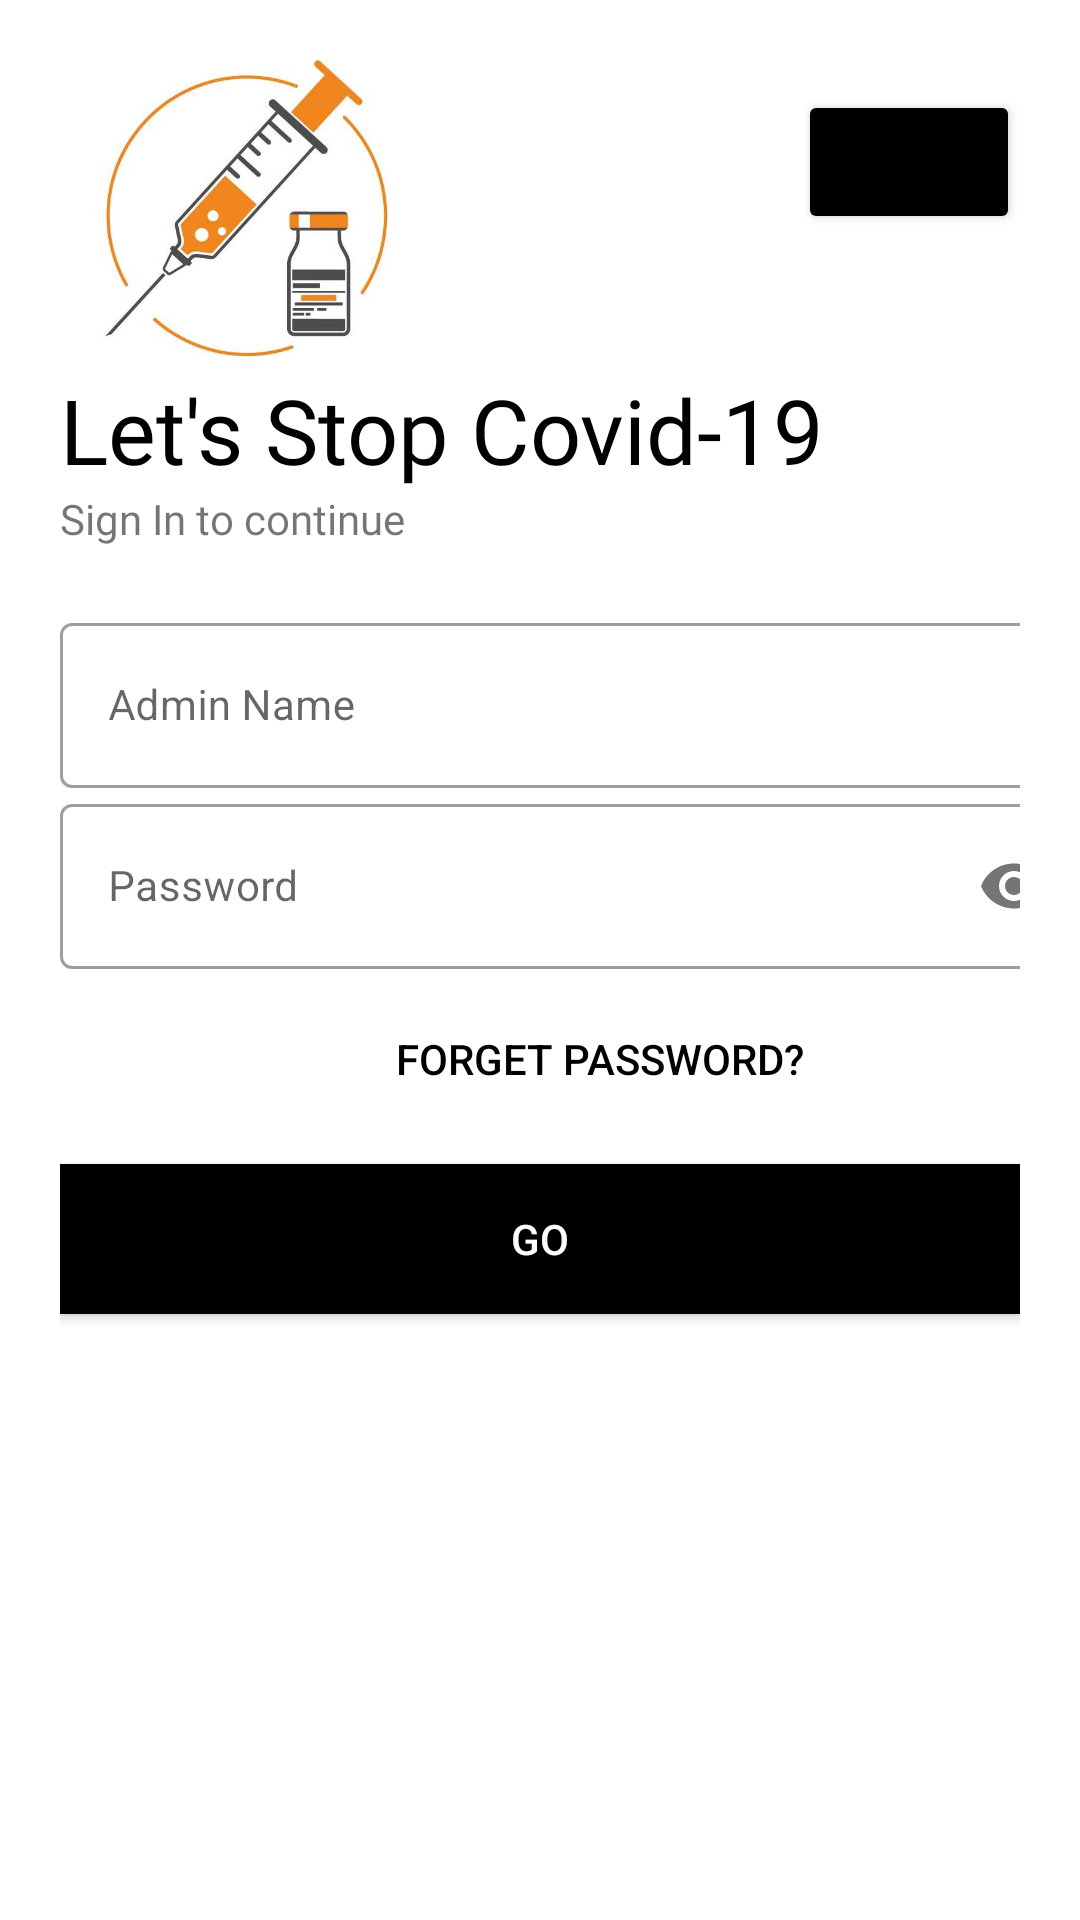

Point at icon controls on the screen. Image size 1080x1920, points as (x,y).
vacbacrop: (246,208)
